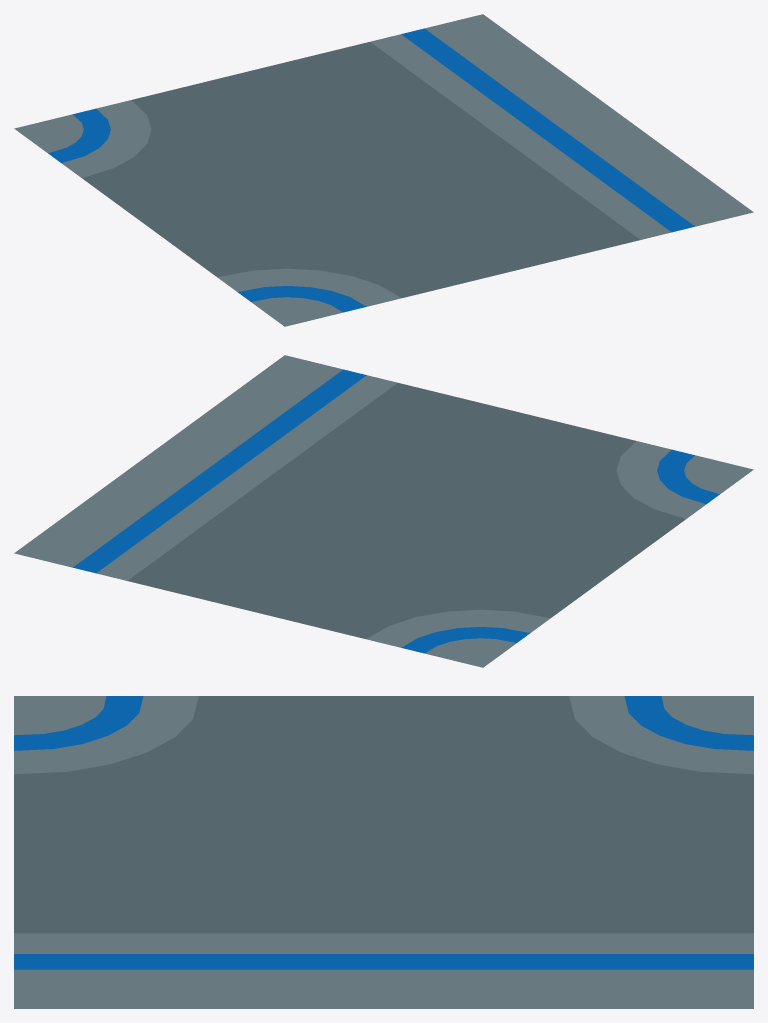
File: Ceiling_type_C_034.004.fbx
3 views of the same model, one above another, from view 1: azimuth 30°, elevation 25°; view 2: azimuth 150°, elevation 25°; view 3: azimuth 270°, elevation 25° (orthographic). The views are drawn at different scales.
Parts seen in each view (by area): view 1: Ceiling_type_C_034.004; view 2: Ceiling_type_C_034.004; view 3: Ceiling_type_C_034.004.
Part boxes in pixels (<box>): Ceiling_type_C_034.004: <box>14,14,753,326</box>; Ceiling_type_C_034.004: <box>14,355,753,667</box>; Ceiling_type_C_034.004: <box>14,696,753,1008</box>.
Size of the model in its own units: 400 by 400 by 1.2.
